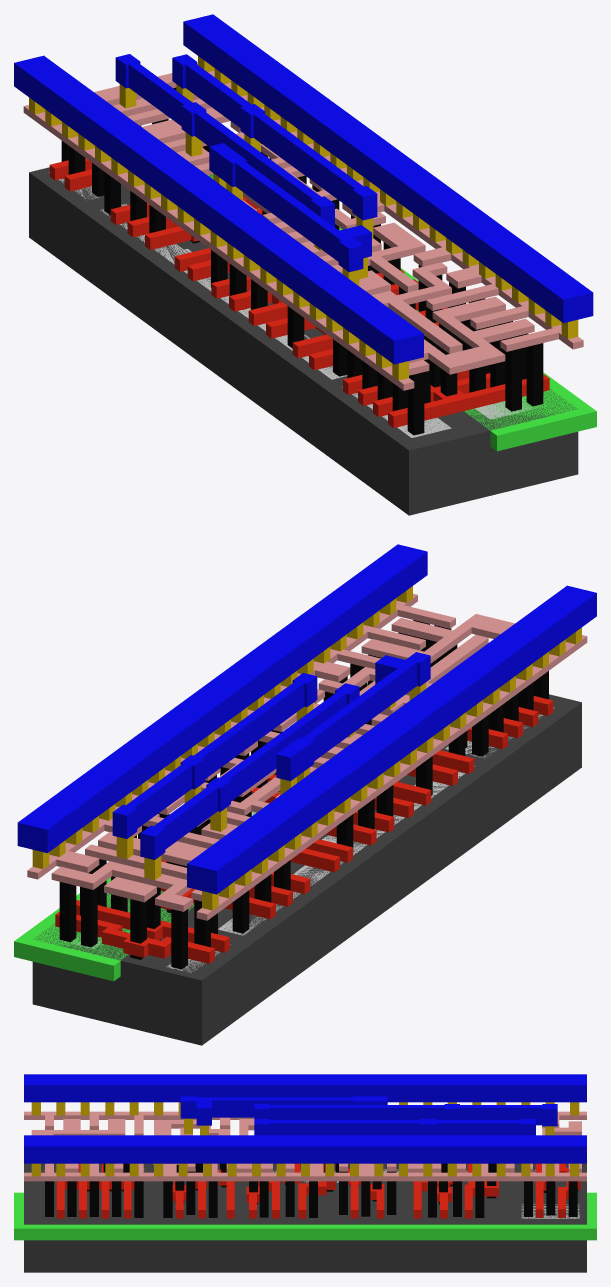
Rendered from sky130_fd_sc_hd__dfrtp_4.obj.
3 views of the same model, one above another, from view 1: azimuth 30°, elevation 25°; view 2: azimuth 150°, elevation 25°; view 3: azimuth 270°, elevation 25° (orthographic). The views are drawn at different scales.
Parts seen in each view (by area): view 1: metal1, subs, li, licon, poly, mcon, nwell, diff; view 2: metal1, subs, li, licon, poly, mcon, nwell, diff; view 3: metal1, subs, li, nwell, licon, poly, mcon, tap.
Boxes of the visible parts, bbox=[...] form: metal1: bbox=[14, 14, 593, 364]; subs: bbox=[29, 167, 578, 515]; li: bbox=[23, 63, 583, 390]; licon: bbox=[61, 87, 543, 435]; poly: bbox=[49, 146, 549, 428]; mcon: bbox=[29, 56, 578, 380]; nwell: bbox=[208, 174, 596, 451]; diff: bbox=[49, 172, 451, 437]; metal1: bbox=[17, 544, 596, 894]; subs: bbox=[32, 694, 581, 1045]; li: bbox=[27, 593, 587, 920]; licon: bbox=[59, 620, 548, 969]; poly: bbox=[55, 684, 553, 963]; mcon: bbox=[32, 586, 581, 910]; nwell: bbox=[14, 682, 367, 981]; diff: bbox=[166, 707, 554, 972]; metal1: bbox=[24, 1074, 586, 1163]; subs: bbox=[24, 1163, 586, 1272]; li: bbox=[24, 1111, 586, 1181]; nwell: bbox=[14, 1192, 596, 1240]; licon: bbox=[45, 1163, 578, 1217]; poly: bbox=[56, 1163, 580, 1218]; mcon: bbox=[31, 1102, 579, 1176]; tap: bbox=[521, 1204, 579, 1218].
Bounding box in the file's own units: 3.2 × 2.74 × 10.96.
